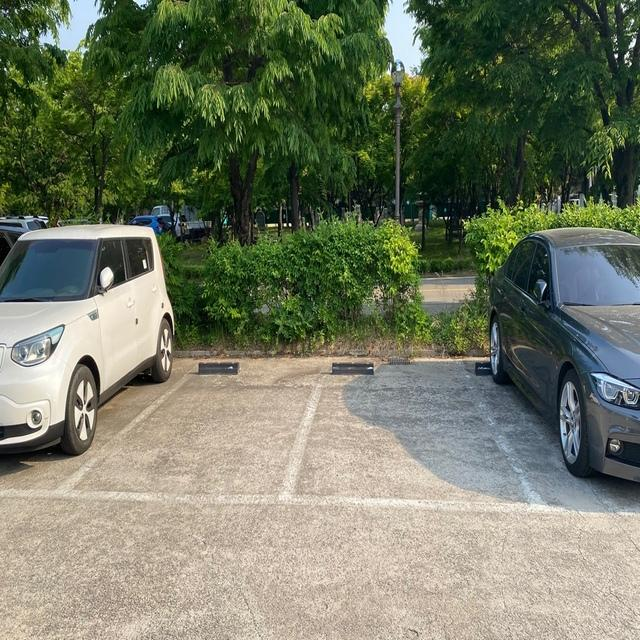empty: (274, 362, 549, 514), (45, 362, 334, 502)
